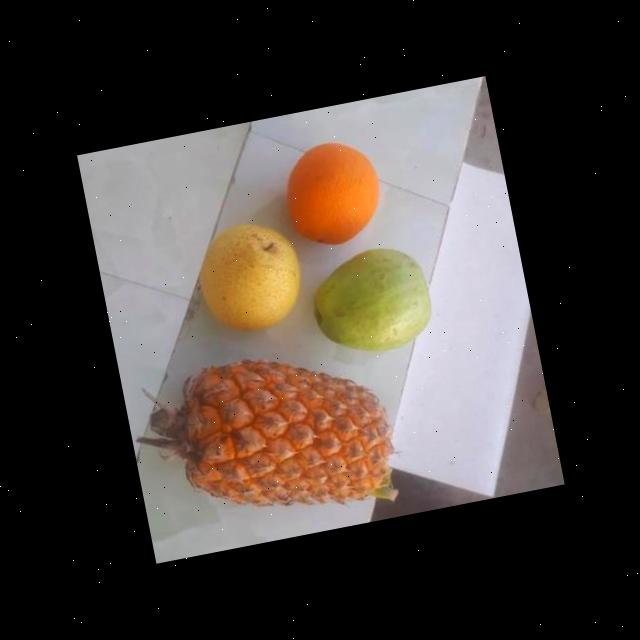guava: (309, 244, 436, 362)
orange: (278, 132, 388, 258)
pear: (188, 212, 309, 345)
pineapple: (168, 344, 406, 536)
